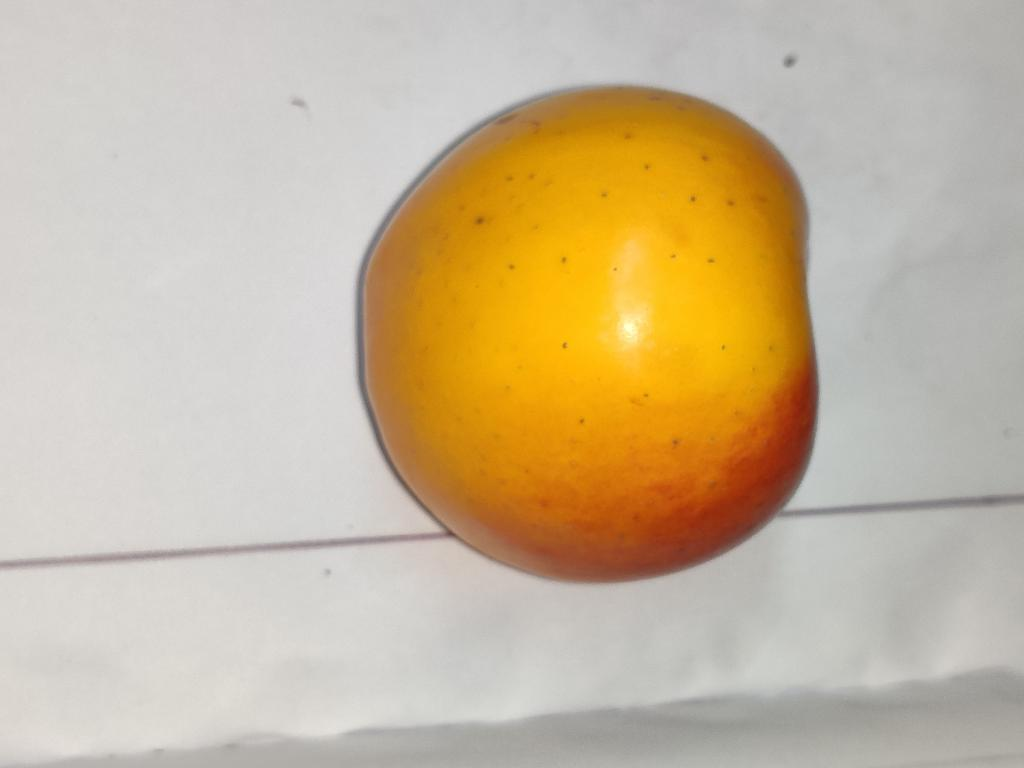apple: (364, 89, 816, 578)
